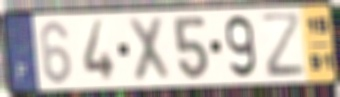4: (81, 18, 118, 84)
5: (171, 14, 211, 82)
6: (38, 18, 74, 86)
9: (224, 13, 258, 79)
X: (126, 14, 173, 84)
Z: (257, 10, 309, 81)
